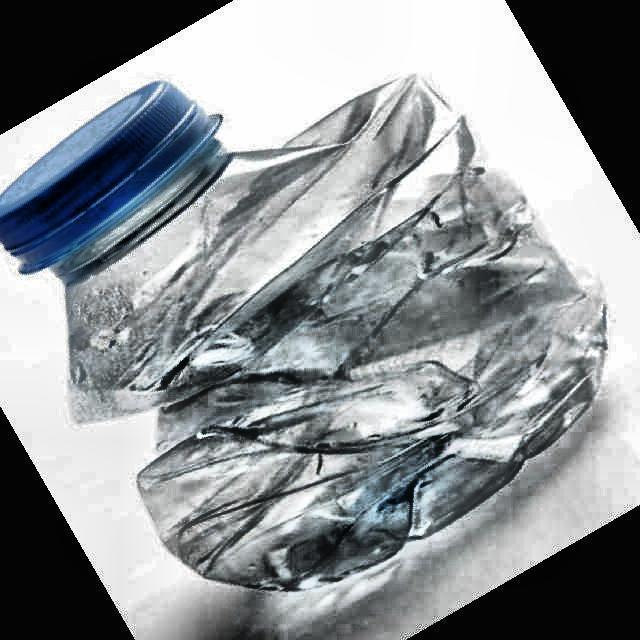plastic: (0, 78, 605, 589)
